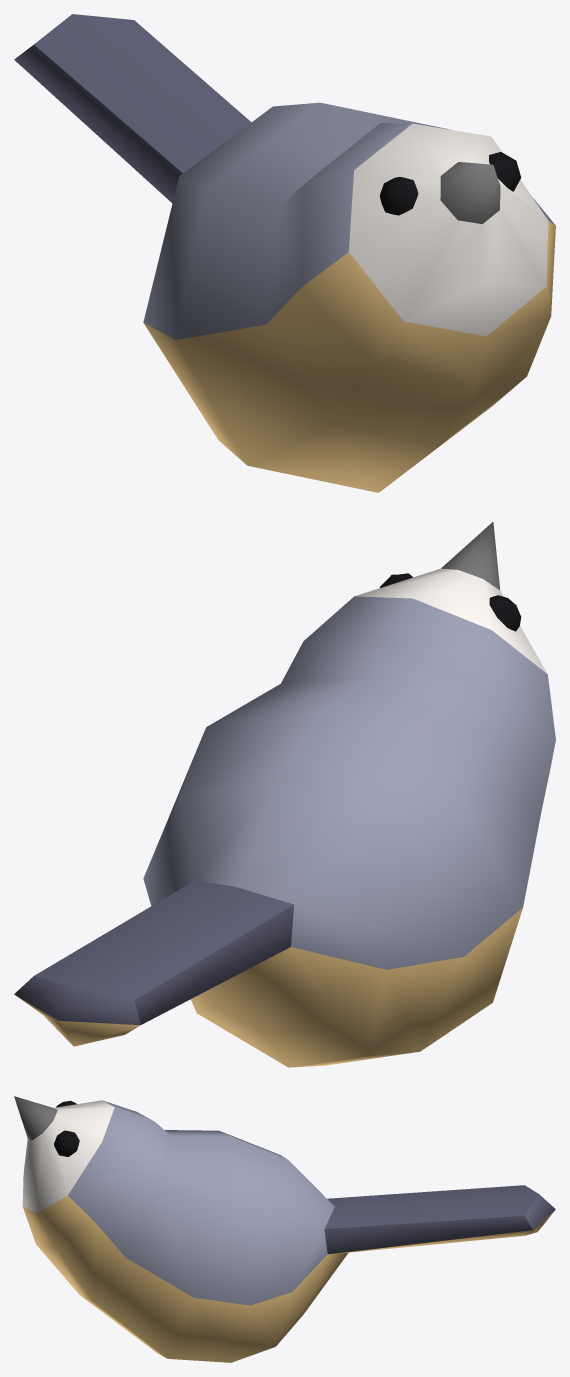
Rendered from Bird_1.gltf.
3 renders of one model, top to bottom at view 1: azimuth 30°, elevation 25°; view 2: azimuth 150°, elevation 25°; view 3: azimuth 270°, elevation 25°, orthographic. The views are drawn at different scales.
Visible parts, largest first — view 1: Bird_1; view 2: Bird_1; view 3: Bird_1.
Part boxes in pixels (<box>): Bird_1: <box>14,14,555,492</box>; Bird_1: <box>14,522,555,1067</box>; Bird_1: <box>14,1096,555,1362</box>.
Bounding box in the file's own units: 16.13 × 18.68 × 34.94.
1 material, 1 textured.
